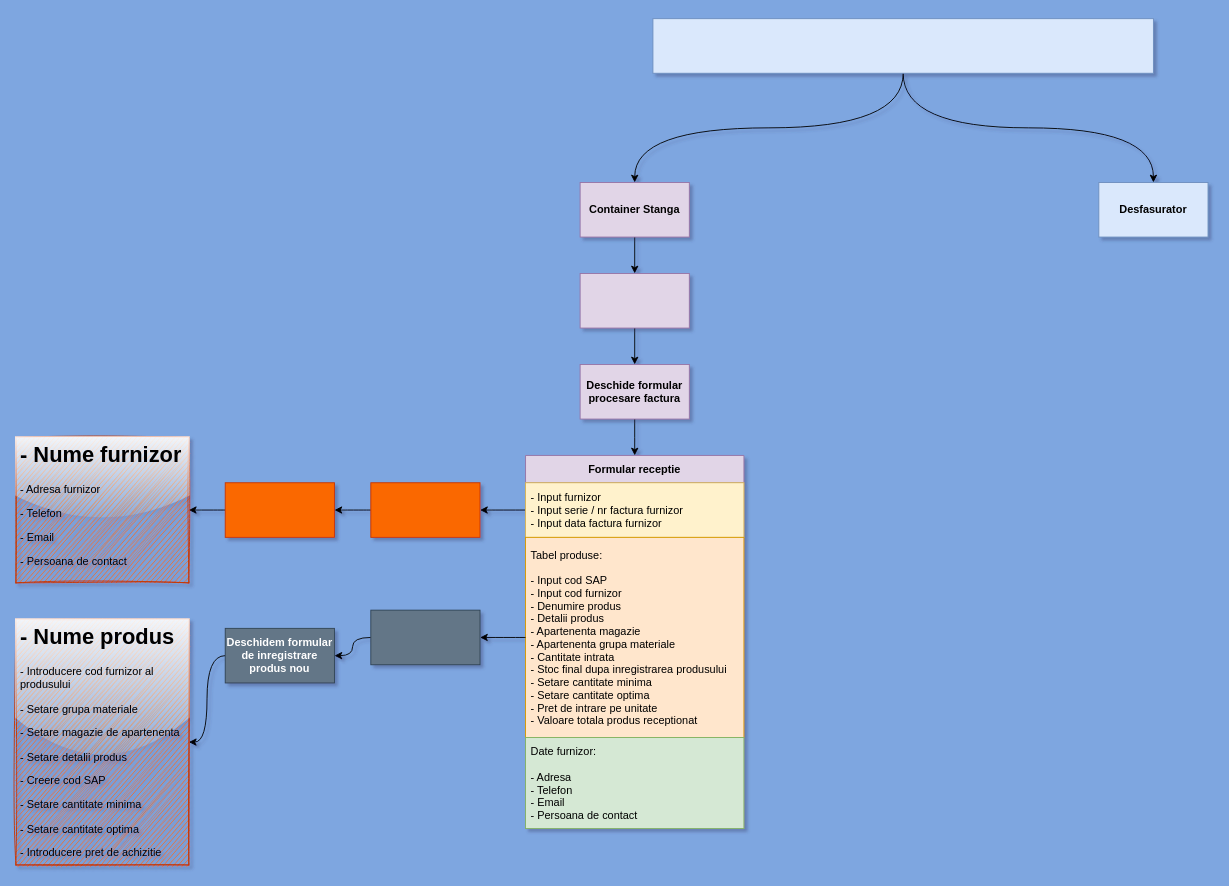
This 1229x886 diagram has some shape labels left out. Here are the shapes that lost their labels. From the top down, the centre of each, then its label:
At (902,45): "Receptie Marfa".
At (634,300): "Button pornire receptie".
At (279,509): "Deschidem formular inregistrare furnizor nou".
At (425,509): "Furnizor nou".
At (425,637): "Produs nou".
